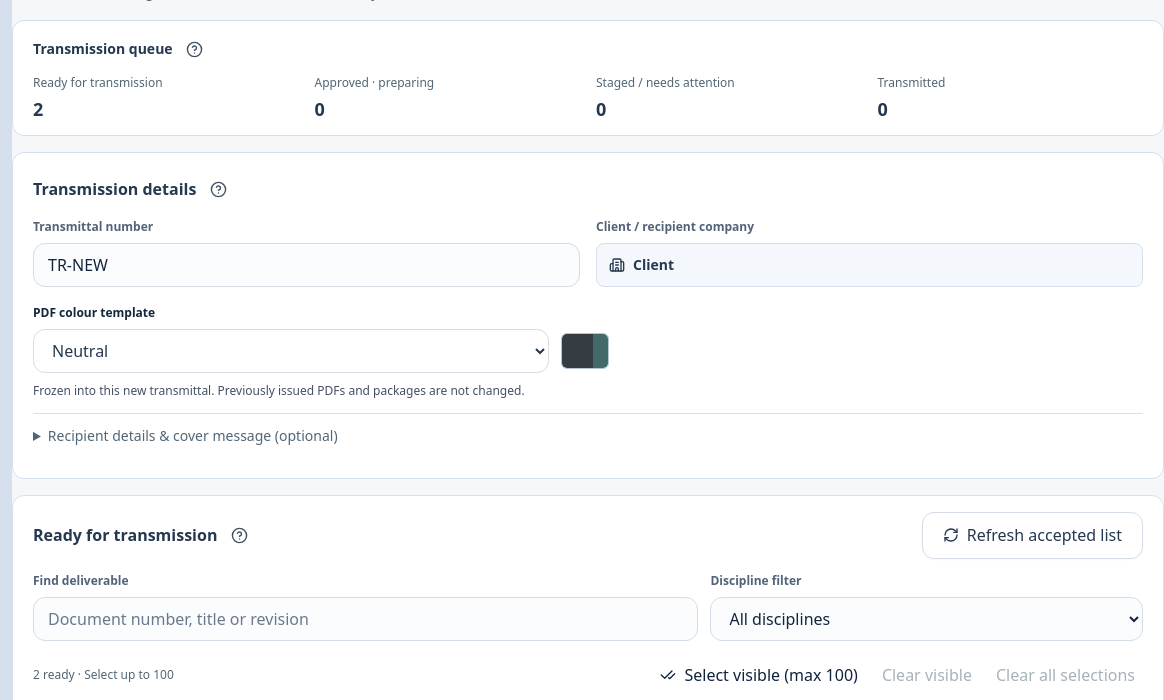
Test: adds another discipline's visible deliverables and retains the first discipline's selections
The width and height of the screenshot is (1164, 700).
Select "Process" in the dropdown labelled "Discipline filter". click: (927, 619)
box: [710, 597, 1143, 641]
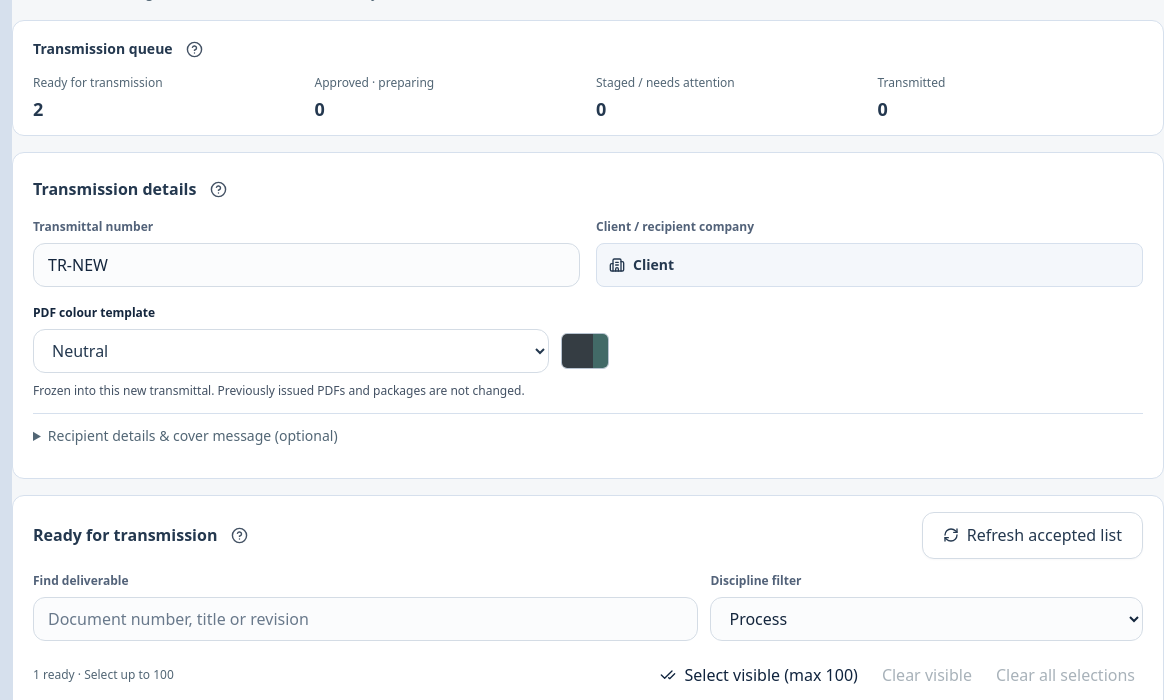
Click the button "Select visible (max 100)". click: (759, 675)
box: [652, 653, 866, 697]
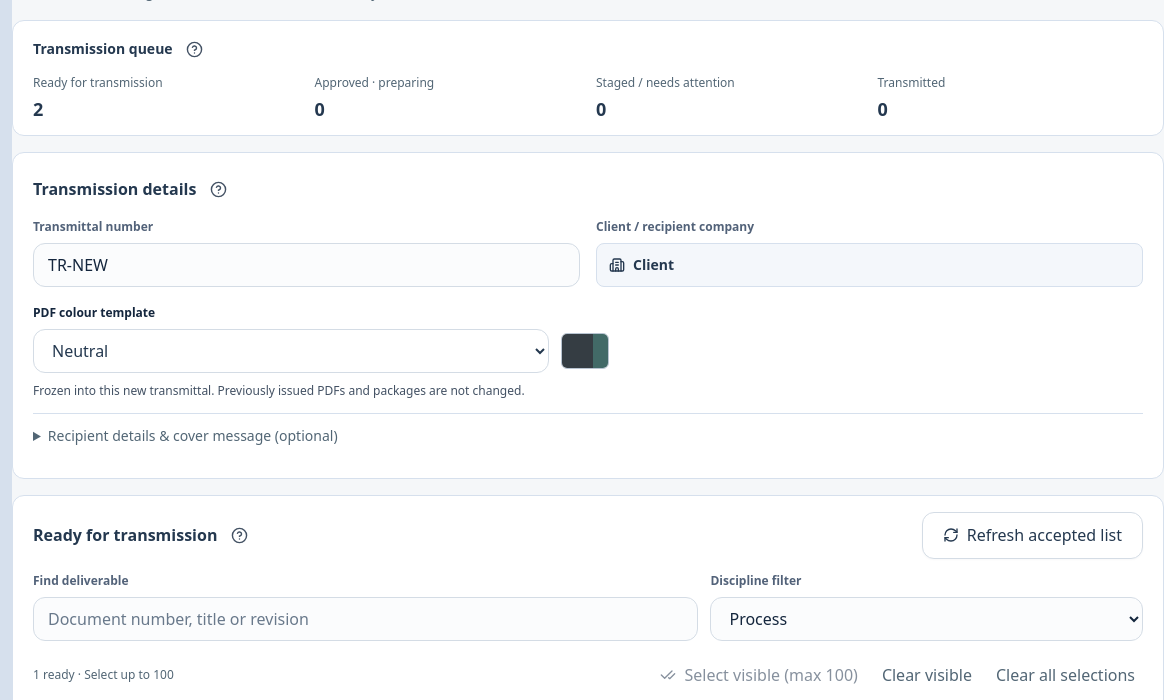
Select "Electrical" in the dropdown labelled "Discipline filter". click: (927, 619)
box: [710, 597, 1143, 641]
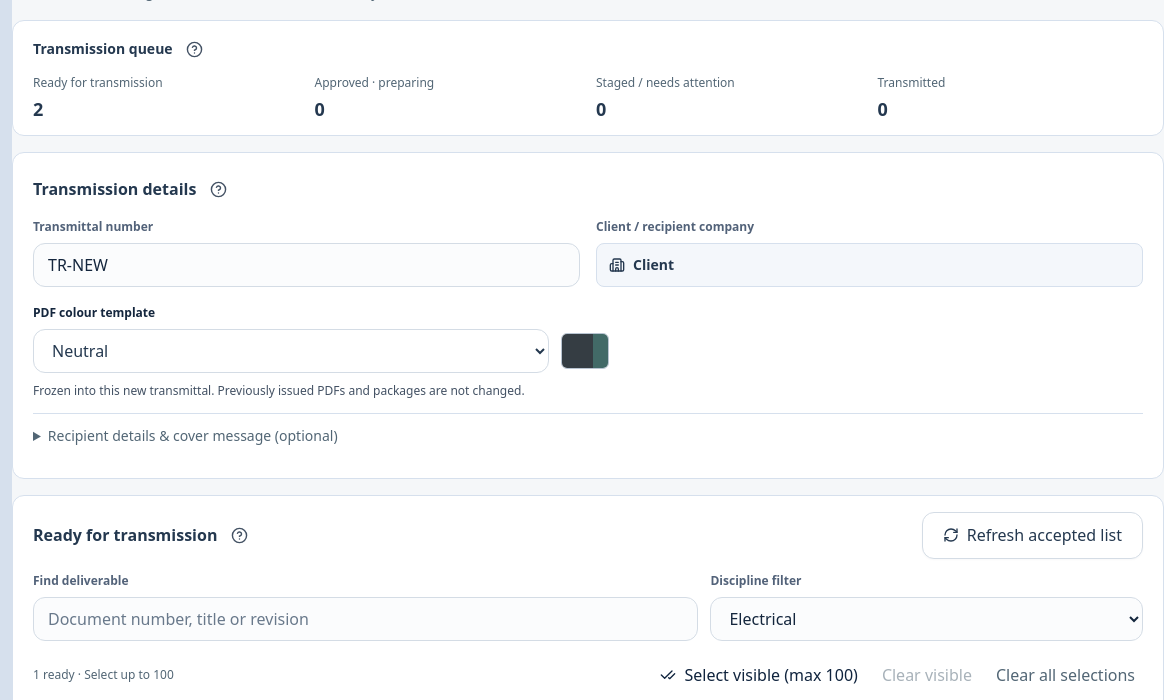
Click the button "Select visible (max 100)". click: (759, 675)
box: [652, 653, 866, 697]
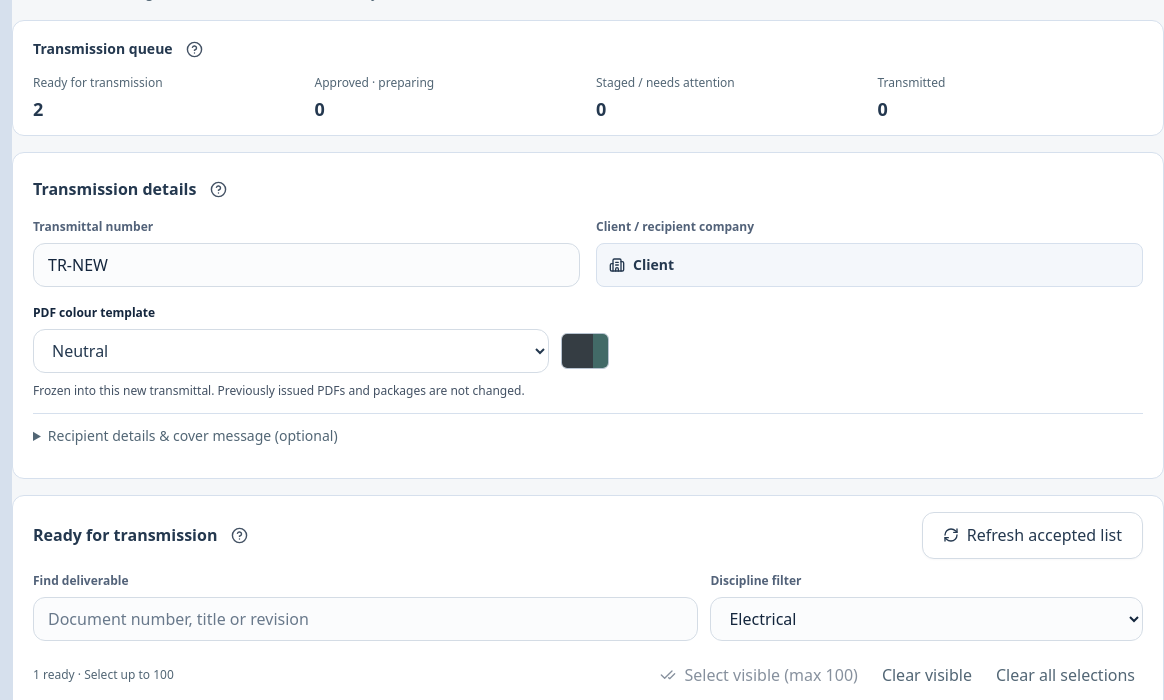
Select "All disciplines" in the dropdown labelled "Discipline filter". click: (927, 619)
box: [710, 597, 1143, 641]
(page scrolled)
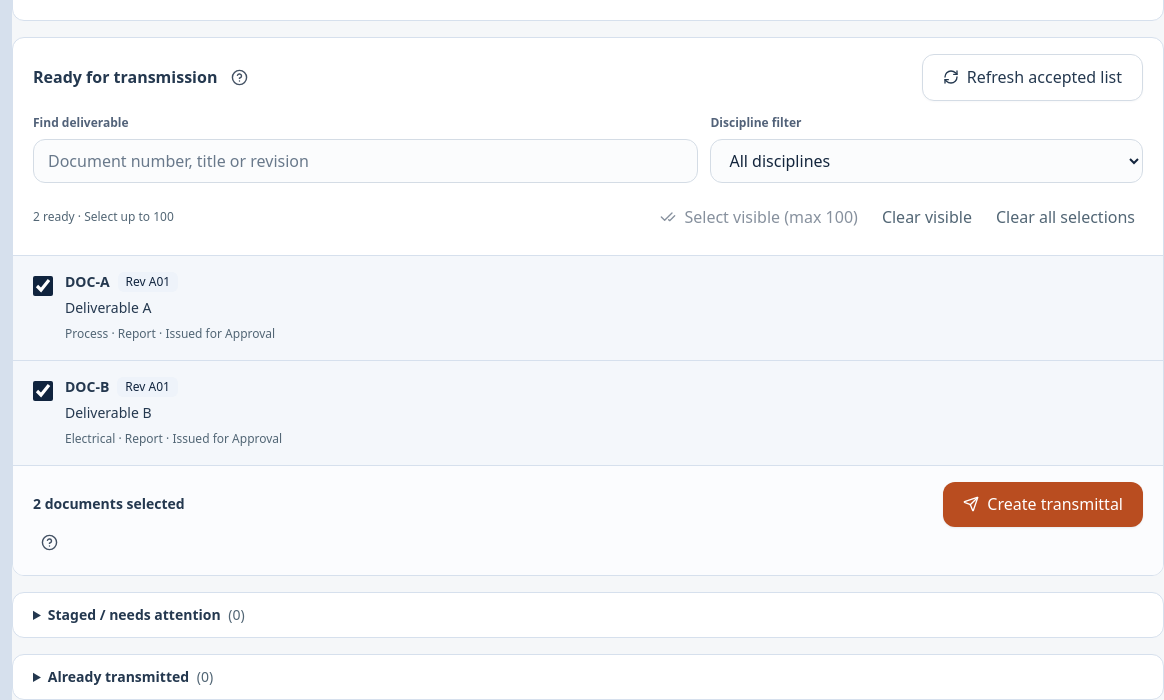
Result: the checkbox named "Select DOC-B revision A01" is checked at [33, 381, 53, 401]
Result: the checkbox named "Select DOC-A revision A01" is checked at [33, 276, 53, 296]
